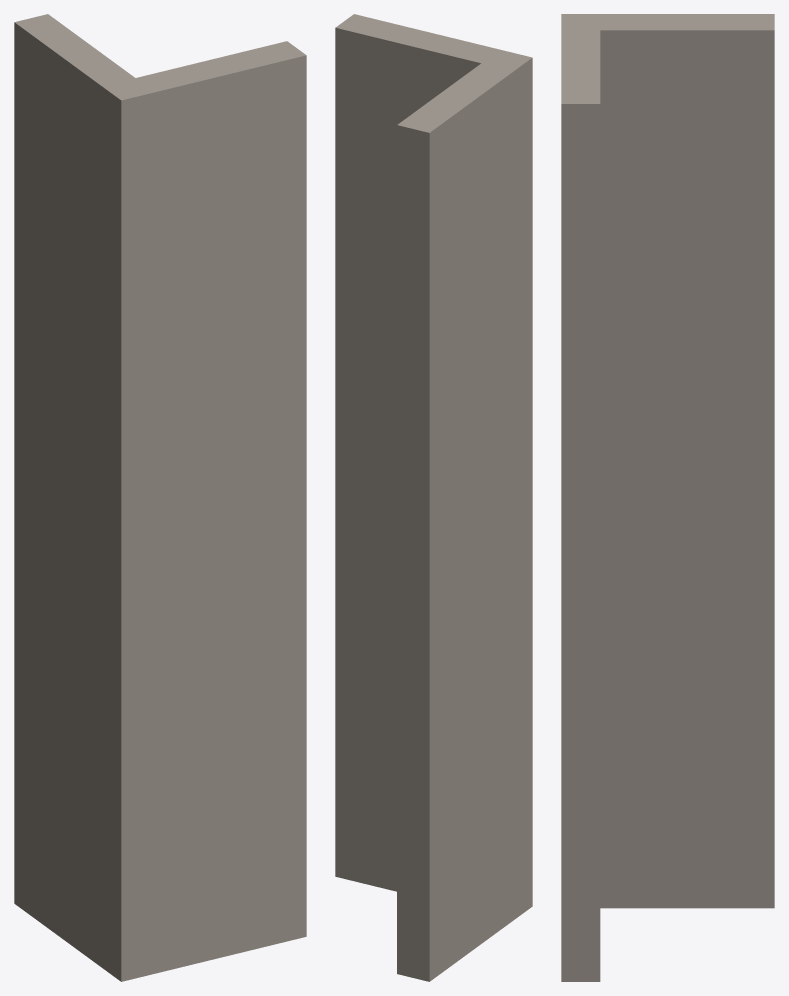
The model's file is SM_Bldg_City_InteriorWall_Corner.fbx.
3 views of the same model, side by side, from view 1: azimuth 30°, elevation 25°; view 2: azimuth 150°, elevation 25°; view 3: azimuth 270°, elevation 25° (orthographic). The views are drawn at different scales.
Parts seen in each view (by area): view 1: SM_Bldg_City_InteriorWall_Corner; view 2: SM_Bldg_City_InteriorWall_Corner; view 3: SM_Bldg_City_InteriorWall_Corner.
Part boxes in pixels (x1=…): SM_Bldg_City_InteriorWall_Corner: x1=14, y1=14, x2=306, y2=981; SM_Bldg_City_InteriorWall_Corner: x1=335, y1=14, x2=532, y2=981; SM_Bldg_City_InteriorWall_Corner: x1=561, y1=14, x2=774, y2=981.
Size of the model in its own units: 55 by 250 by 55.
